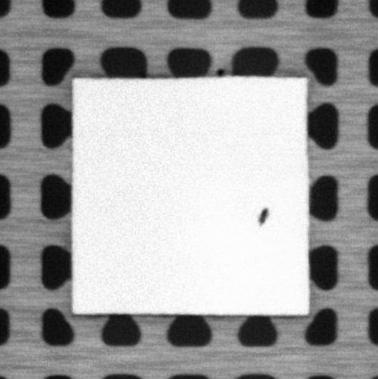DIE_INK: (255, 206, 270, 226)
